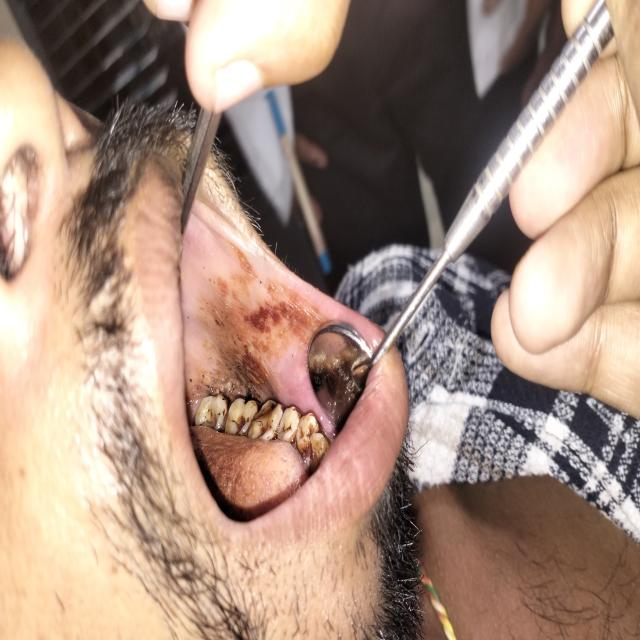leukoplakia-like-detection: (205, 273, 311, 390)
processing_area: (188, 214, 324, 427)
